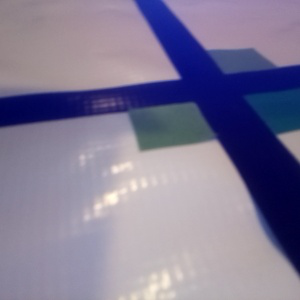bottom_left: (129, 83, 243, 151), (217, 76, 300, 135)
top_right: (182, 48, 277, 92)
